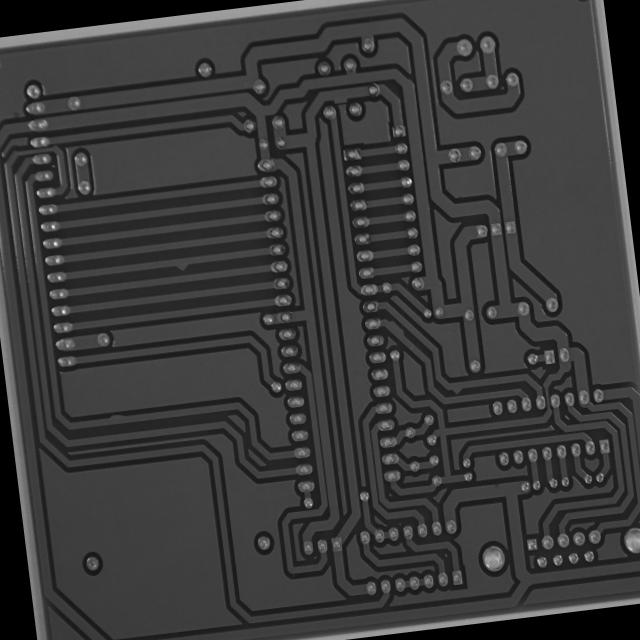spur: (384, 316, 408, 340), (166, 253, 194, 273), (327, 89, 353, 108), (103, 408, 128, 426), (447, 378, 468, 398)
